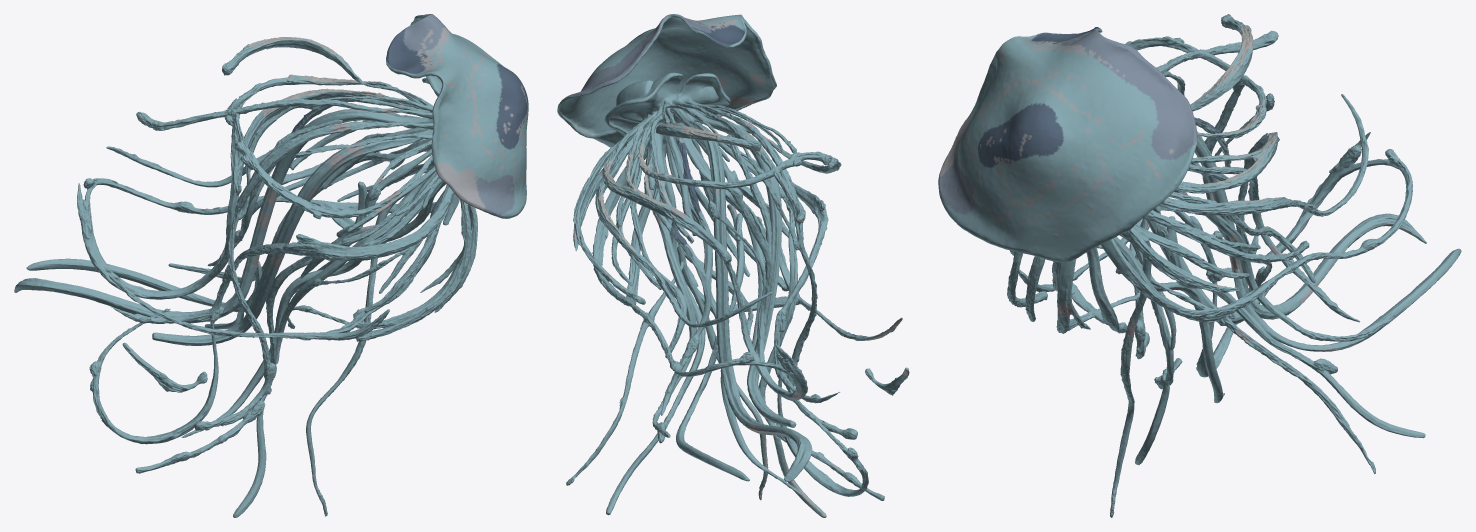
The model's file is jellyfish.glb.
The picture shows the model from 3 angles, left to right: view 1: azimuth 30°, elevation 25°; view 2: azimuth 150°, elevation 25°; view 3: azimuth 270°, elevation 25°; orthographic projection. The views are drawn at different scales.
Size of the model in its own units: 1.21 by 1.49 by 1.31.
